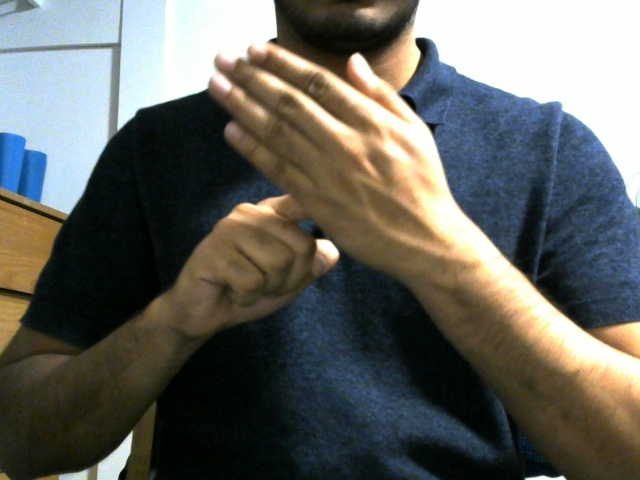Project: (158, 41, 473, 333)
